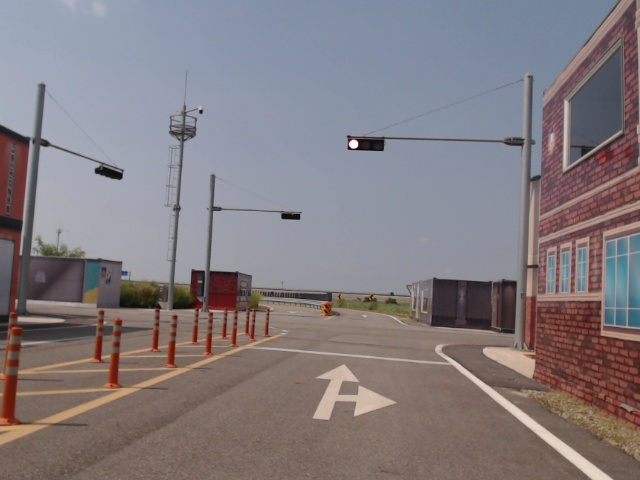red_3: (348, 136, 385, 151)
